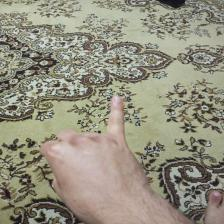five: (35, 93, 150, 222)
